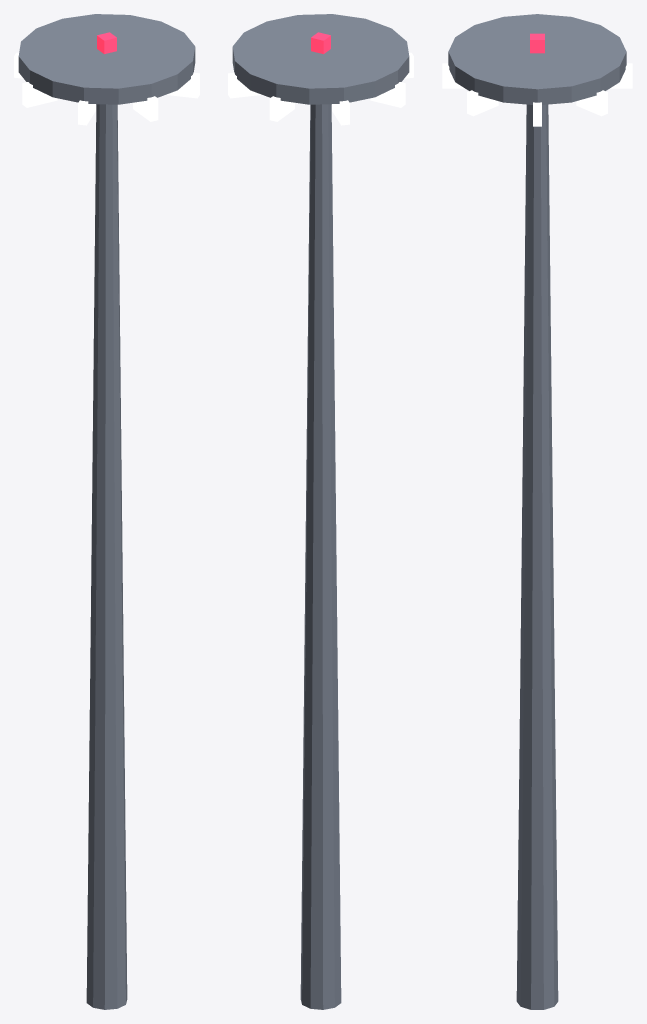
The model's file is flood_mast.glb.
The picture shows the model from 3 angles, left to right: view 1: azimuth 30°, elevation 25°; view 2: azimuth 150°, elevation 25°; view 3: azimuth 270°, elevation 25°; orthographic projection.
Visible parts, largest first — view 1: mast; view 2: mast; view 3: mast.
Boxes of the visible parts, box(x1,y1,x2,y2) form: mast: box(14, 14, 199, 1009); mast: box(228, 14, 413, 1009); mast: box(442, 14, 632, 1009).
Bounding box in the file's own units: 6.4 × 35.85 × 6.4.
